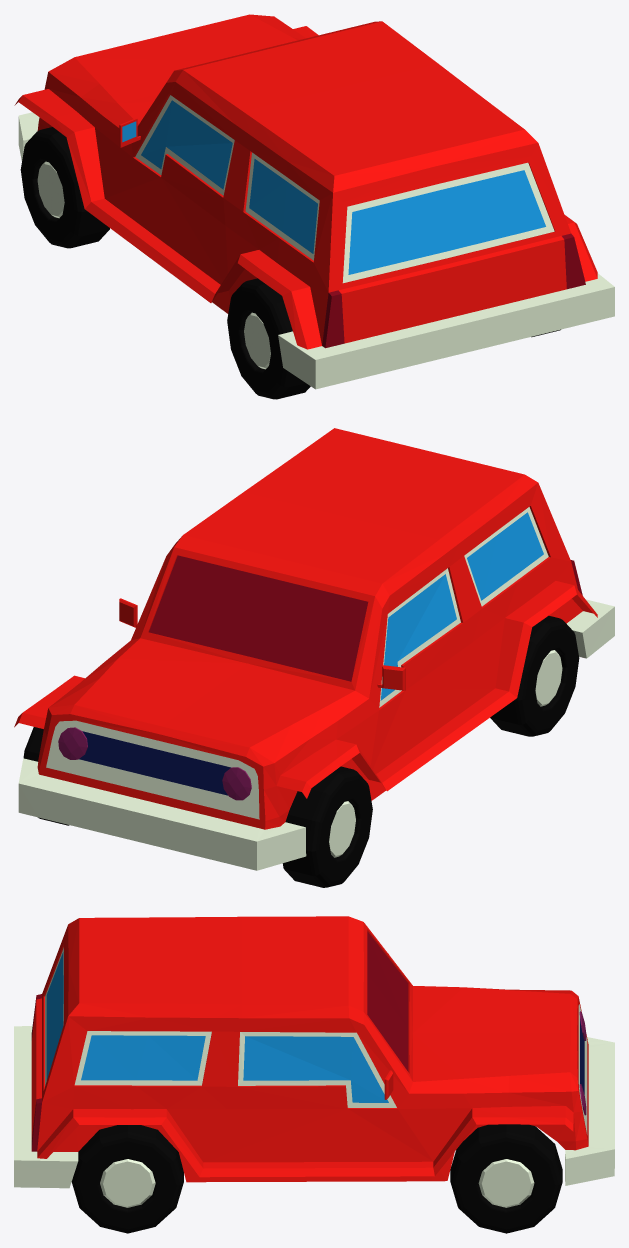
Rendered from car_jeep.obj.
3 renders of one model, top to bottom at view 1: azimuth 30°, elevation 25°; view 2: azimuth 150°, elevation 25°; view 3: azimuth 270°, elevation 25°, orthographic. The views are drawn at different scales.
Visible parts, largest first — view 1: Boole, tire1.006, tire2.004; view 2: Boole, tire1.006, tire2.004; view 3: Boole, tire1.006, tire2.004.
Boxes of the visible parts, <box> form: Boole: <box>14,14,614,389</box>; tire1.006: <box>20,127,109,248</box>; tire2.004: <box>227,278,560,399</box>; Boole: <box>14,428,614,870</box>; tire1.006: <box>23,727,372,887</box>; tire2.004: <box>490,615,579,736</box>; Boole: <box>14,916,614,1188</box>; tire1.006: <box>450,1124,562,1233</box>; tire2.004: <box>71,1125,183,1233</box>.
Bounding box in the file's own units: 2.79 × 1.98 × 5.17.
